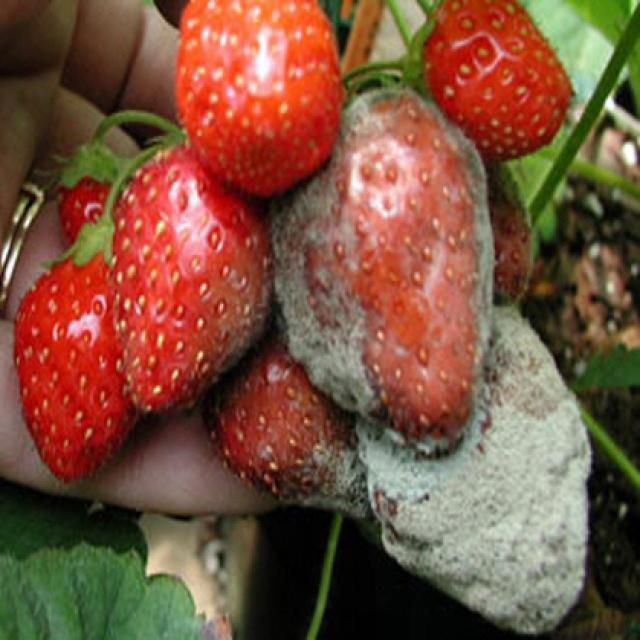Gray Mold: (269, 91, 495, 460), (357, 304, 593, 635), (199, 323, 369, 517), (119, 244, 276, 410)
